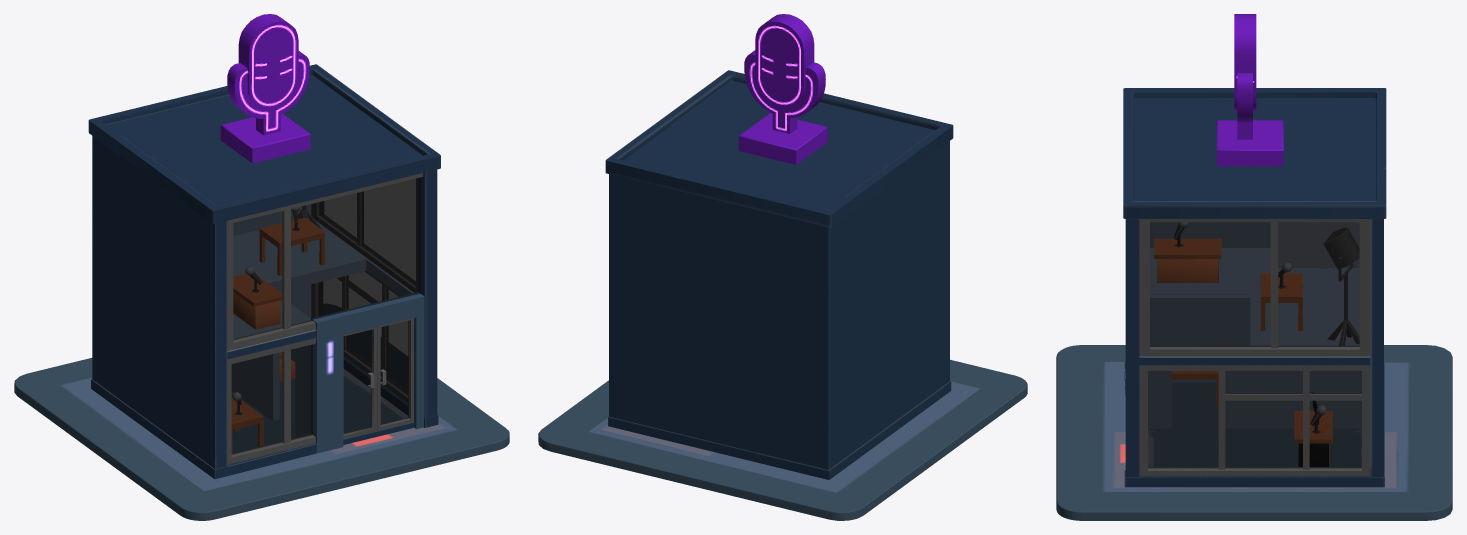
Rendered from Prodcast.fbx.
The picture shows the model from 3 angles, left to right: view 1: azimuth 30°, elevation 25°; view 2: azimuth 150°, elevation 25°; view 3: azimuth 270°, elevation 25°; orthographic projection. The views are drawn at different scales.
Visible parts, largest first — view 1: PD; view 2: PD; view 3: PD.
Part boxes in pixels (left/top/right/bottom): PD: left=14, top=14, right=509, bottom=520; PD: left=538, top=14, right=1027, bottom=520; PD: left=1056, top=14, right=1452, bottom=520.
Size of the model in its own units: 3.99 by 4.69 by 3.99.
